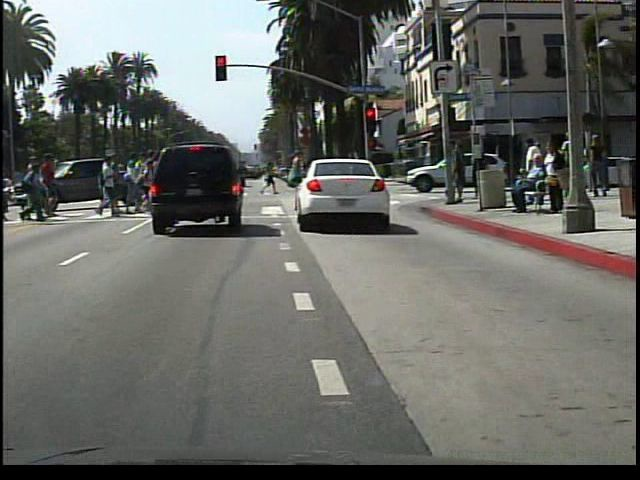person: (512, 154, 553, 215), (542, 138, 573, 216), (284, 148, 317, 214)
